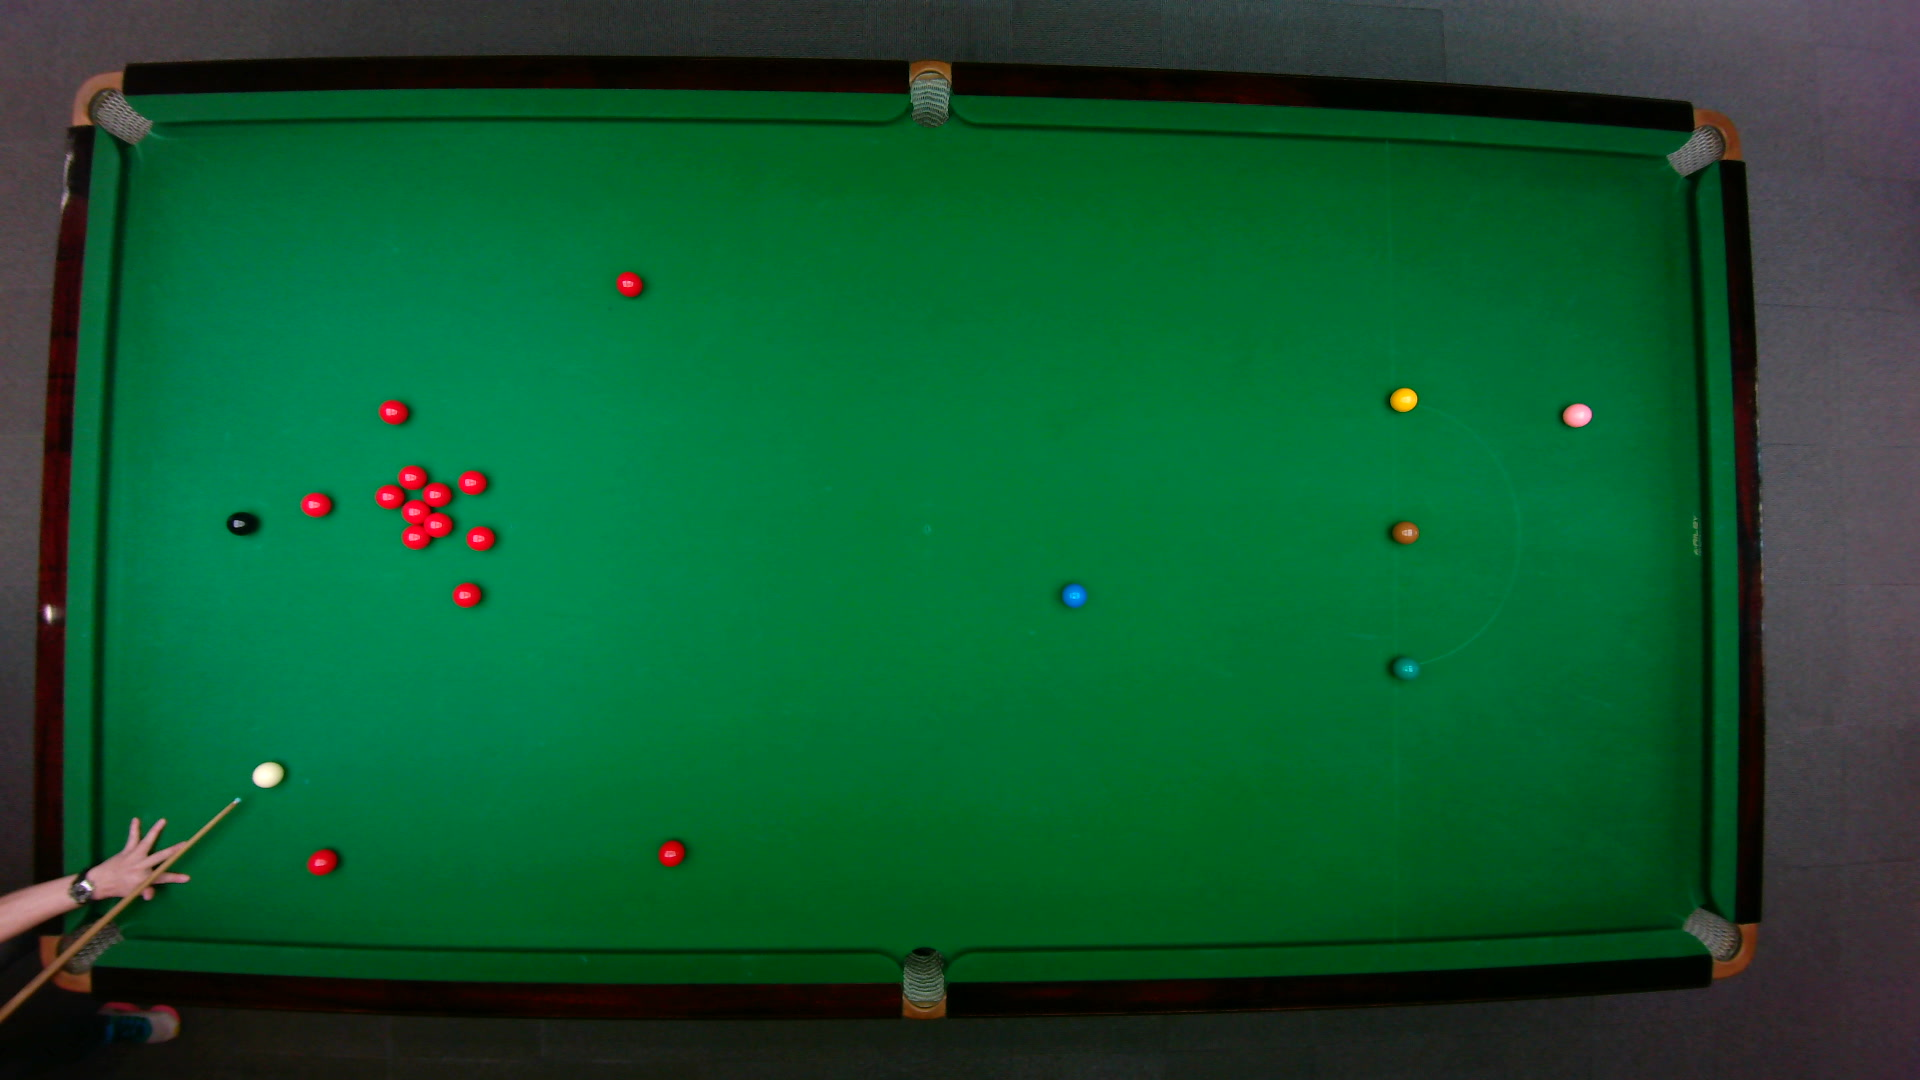bag: (40, 910, 127, 994), (69, 69, 152, 145), (1677, 905, 1756, 978), (1663, 107, 1742, 177), (901, 944, 944, 1021), (909, 58, 953, 131)
black: (224, 509, 260, 538)
blue: (1059, 582, 1089, 609)
brown: (1390, 520, 1422, 546)
cue: (0, 795, 243, 1019)
green: (1390, 654, 1422, 682)
pink: (1560, 400, 1594, 429)
red: (305, 847, 340, 878), (298, 491, 335, 520), (655, 837, 688, 868), (373, 483, 407, 512), (419, 480, 454, 509), (450, 580, 484, 609), (615, 269, 645, 301), (464, 524, 497, 553), (396, 463, 429, 492), (422, 510, 455, 538), (456, 468, 489, 496), (377, 398, 410, 426), (400, 525, 433, 551), (400, 498, 433, 525)
white: (249, 760, 286, 790)
yellow: (1387, 386, 1420, 413)
zone: (1389, 401, 1520, 666)
